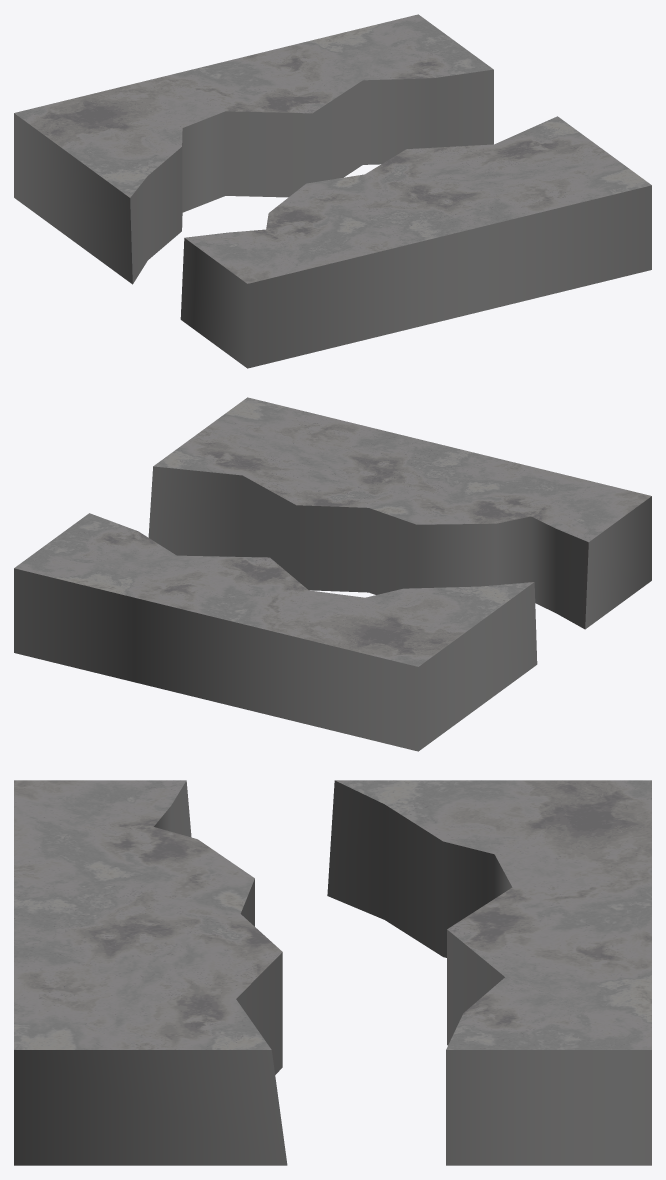
The model's file is Rift.fbx.
The picture shows the model from 3 angles, top to bottom: view 1: azimuth 30°, elevation 25°; view 2: azimuth 150°, elevation 25°; view 3: azimuth 270°, elevation 25°; orthographic projection. The views are drawn at different scales.
Parts seen in each view (by area): view 1: Rift; view 2: Rift; view 3: Rift.
Boxes of the visible parts, x1=… form: Rift: x1=14, y1=14, x2=651, y2=368; Rift: x1=14, y1=397, x2=651, y2=751; Rift: x1=14, y1=780, x2=651, y2=1165.
Bounding box in the file's own units: 1 × 1 × 0.2.
